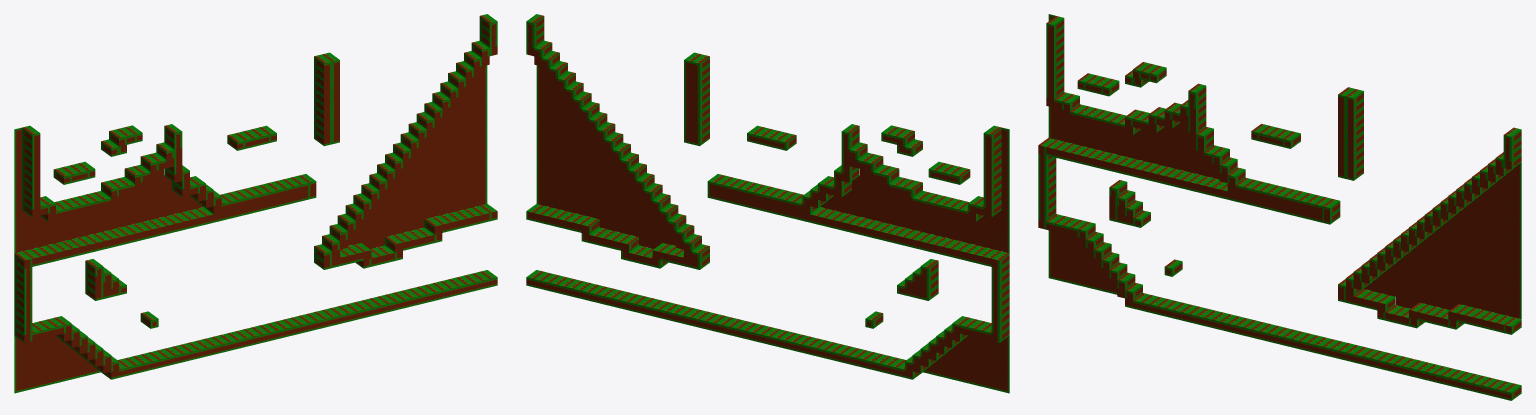
File: Luna5DiaSolo.glb
The picture shows the model from 3 angles, left to right: view 1: azimuth 30°, elevation 25°; view 2: azimuth 150°, elevation 25°; view 3: azimuth 330°, elevation 25°; orthographic projection.
Parts seen in each view (by area): view 1: Setor_0, Setor_2, Setor_1; view 2: Setor_0, Setor_2, Setor_1; view 3: Setor_2, Setor_0, Setor_1.
Boxes of the visible parts, x1,y1,x2,y2 form: Setor_0: [14, 124, 182, 393]; Setor_2: [330, 14, 497, 323]; Setor_1: [172, 52, 339, 362]; Setor_0: [841, 124, 1009, 393]; Setor_2: [526, 14, 693, 323]; Setor_1: [684, 52, 851, 362]; Setor_2: [1353, 127, 1521, 400]; Setor_0: [1038, 14, 1206, 323]; Setor_1: [1196, 87, 1363, 362].
Bounding box in the file's own units: 76.5 × 40.8 × 2.85.
1 material, 1 textured.
